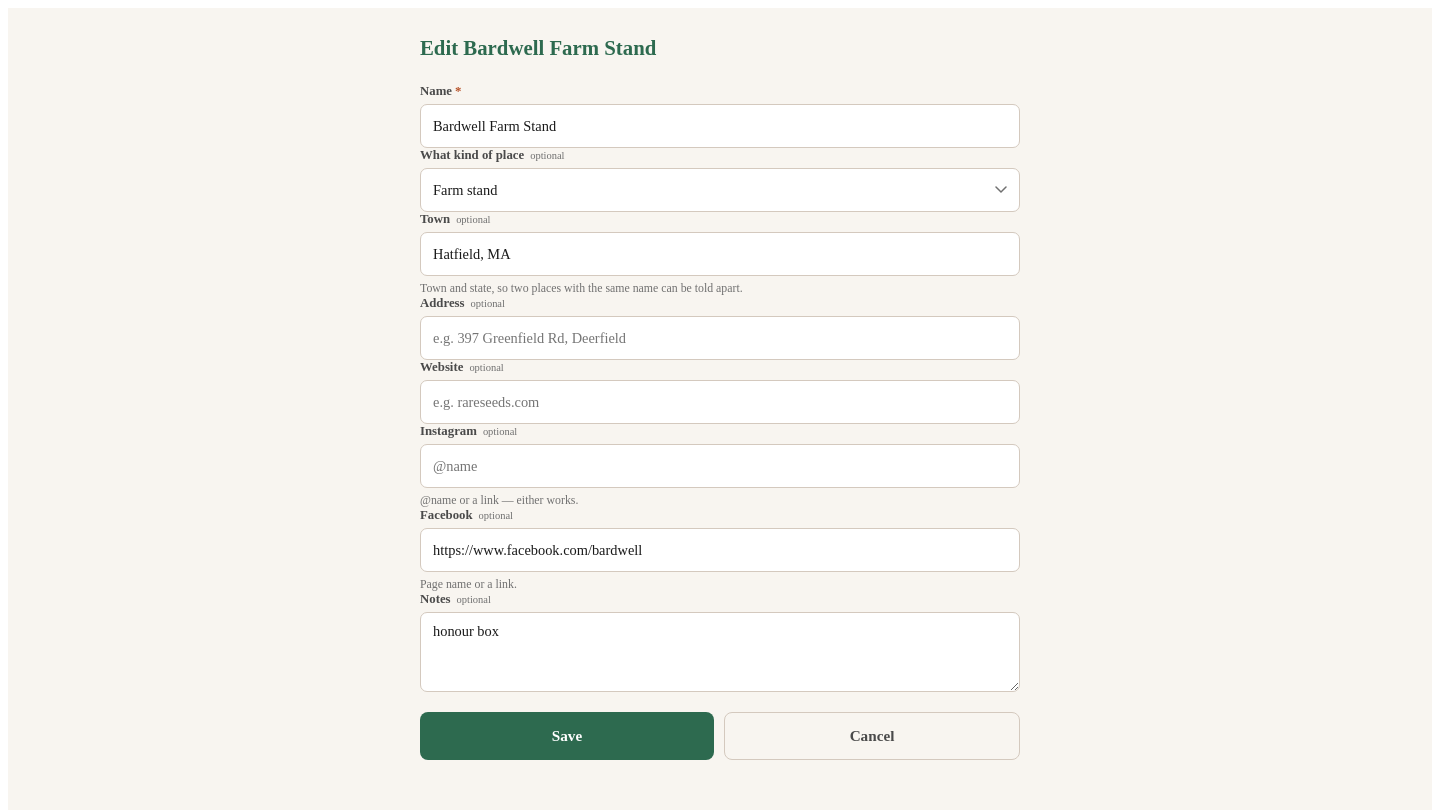
Test: SourceEdit — save › a 403 says whose sources can be edited
The width and height of the screenshot is (1440, 810).
Expected: the field with test id "source-edit-name" is shown, [420,104,1020,148]
Step 1. Replace the text in the text box with test id "source-edit-notes" with "x" → (720, 652), box [420,612,1020,692]
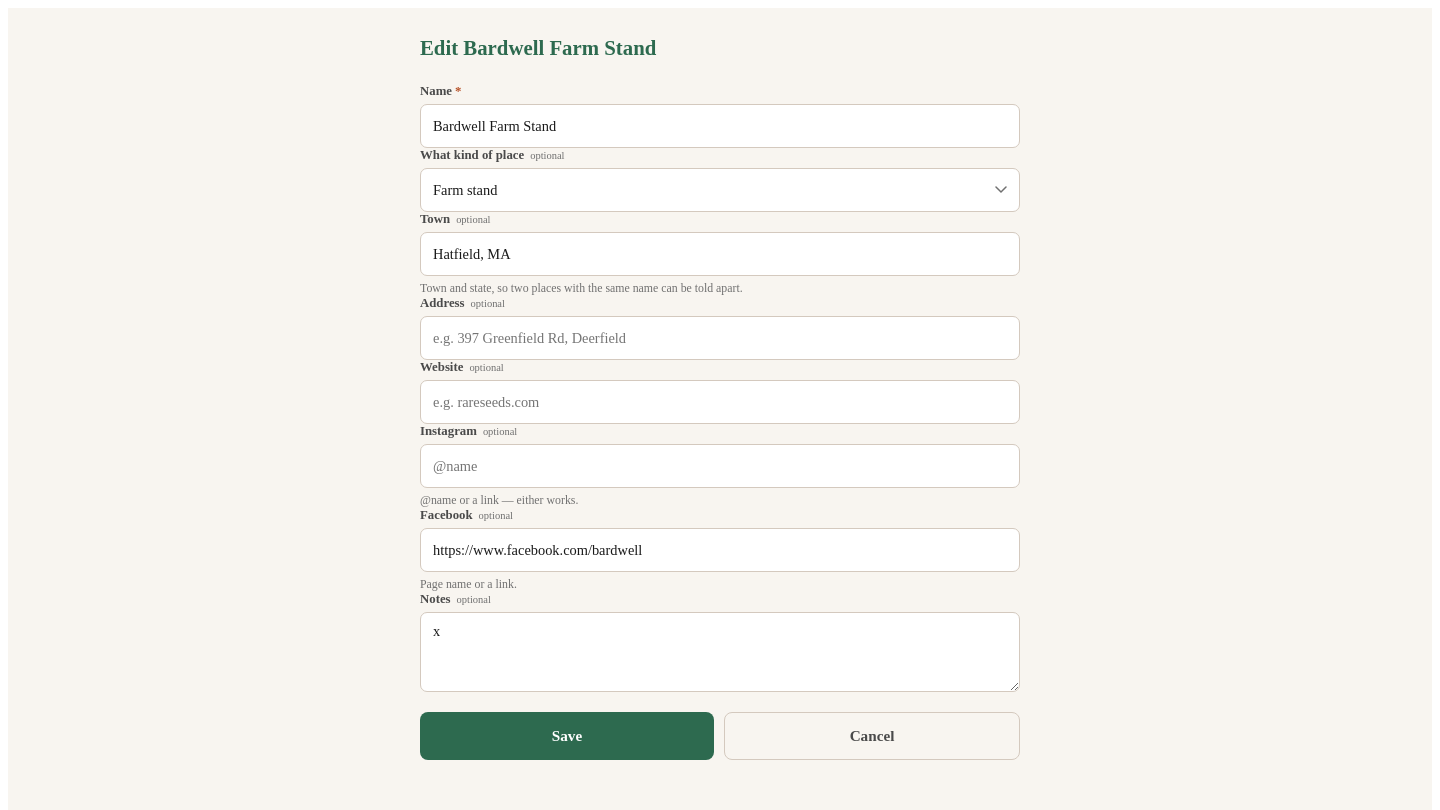
Step 2. Click the button with test id "source-edit-save" → (567, 736), box [420,712,714,760]
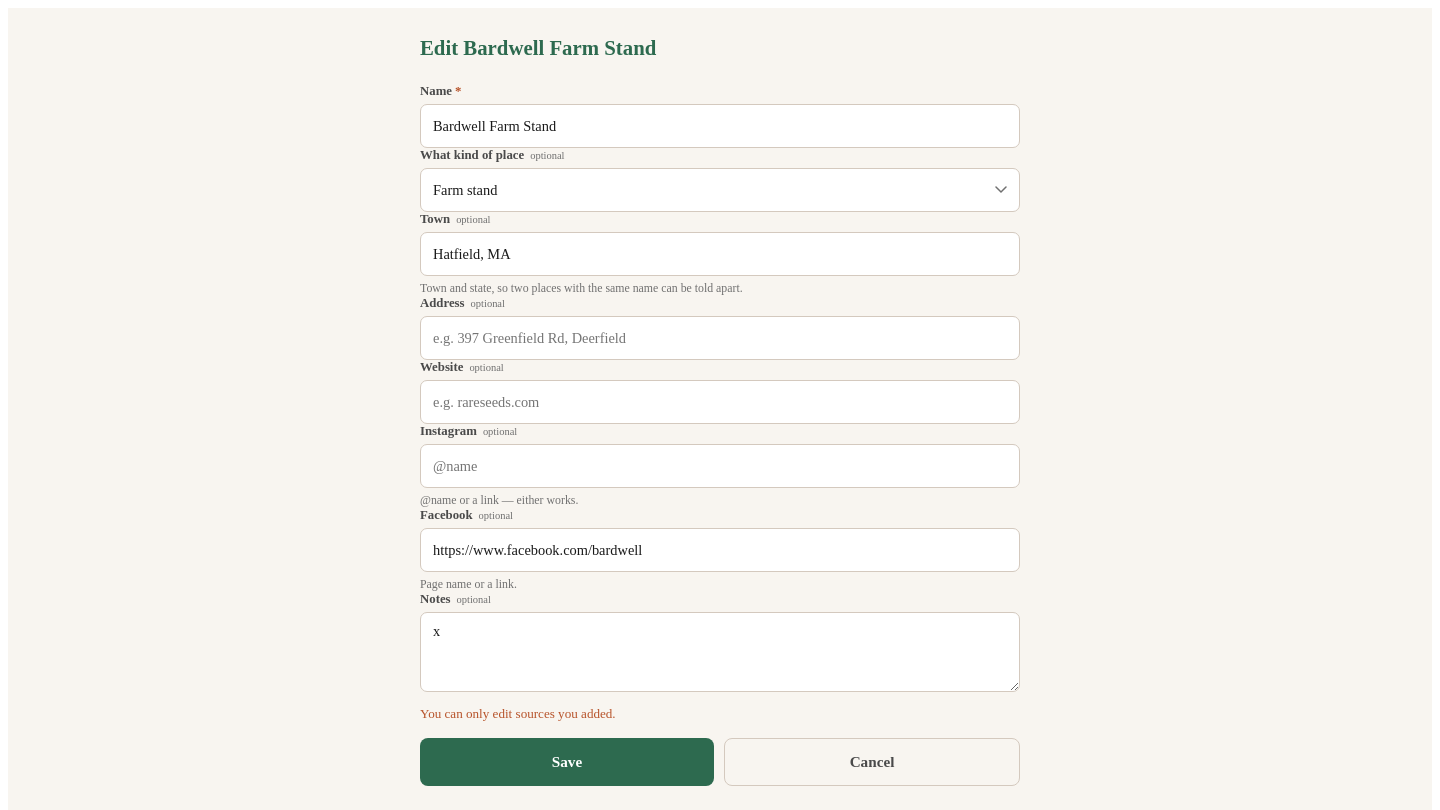
Result: the message with test id "source-edit-error" reads "You can only edit sources you added." at [420,706,616,721]
